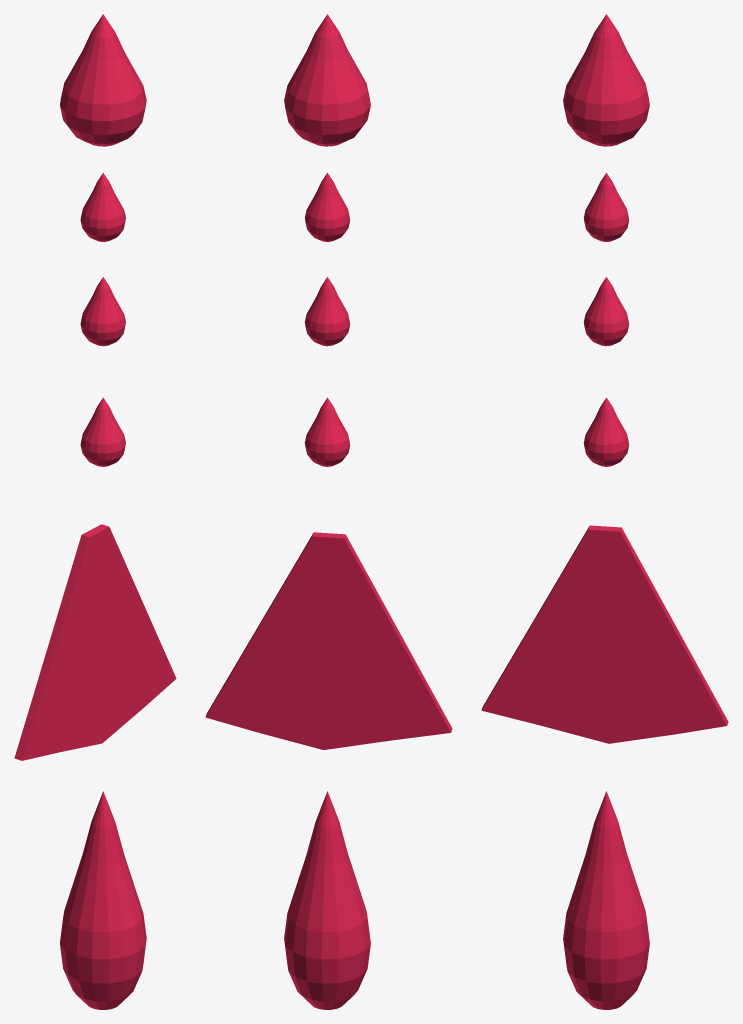
File: amulet05_Mdl_Dec_Z2.fbx
The picture shows the model from 3 angles, left to right: view 1: azimuth 30°, elevation 25°; view 2: azimuth 150°, elevation 25°; view 3: azimuth 330°, elevation 25°; orthographic projection.
Visible parts, largest first — view 1: amulet02.001, Sphere.013, amulet05, Sphere.014, Sphere.017, Sphere.016; view 2: amulet02.001, Sphere.013, amulet05, Sphere.016, Sphere.017, Sphere.014; view 3: amulet02.001, Sphere.013, amulet05, Sphere.016, Sphere.017, Sphere.014.
Part boxes in pixels (bbox=[...]): amulet02.001: bbox=[14, 524, 176, 760]; Sphere.013: bbox=[60, 791, 146, 1009]; amulet05: bbox=[60, 14, 146, 146]; Sphere.014: bbox=[80, 173, 125, 241]; Sphere.017: bbox=[80, 397, 125, 466]; Sphere.016: bbox=[80, 277, 125, 346]; amulet02.001: bbox=[205, 532, 452, 749]; Sphere.013: bbox=[284, 791, 370, 1009]; amulet05: bbox=[284, 14, 370, 146]; Sphere.016: bbox=[304, 277, 350, 346]; Sphere.017: bbox=[304, 397, 350, 466]; Sphere.014: bbox=[305, 173, 350, 241]; amulet02.001: bbox=[481, 525, 728, 743]; Sphere.013: bbox=[563, 791, 649, 1009]; amulet05: bbox=[563, 14, 649, 146]; Sphere.016: bbox=[583, 277, 629, 346]; Sphere.017: bbox=[583, 397, 629, 466]; Sphere.014: bbox=[583, 173, 629, 241].
Bounding box in the file's own units: 20.7 × 96.73 × 8.86.
